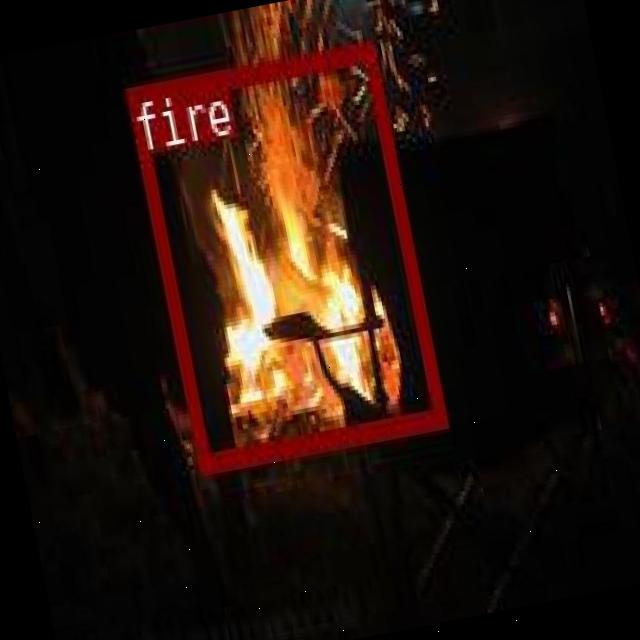fire: (123, 38, 444, 472)
